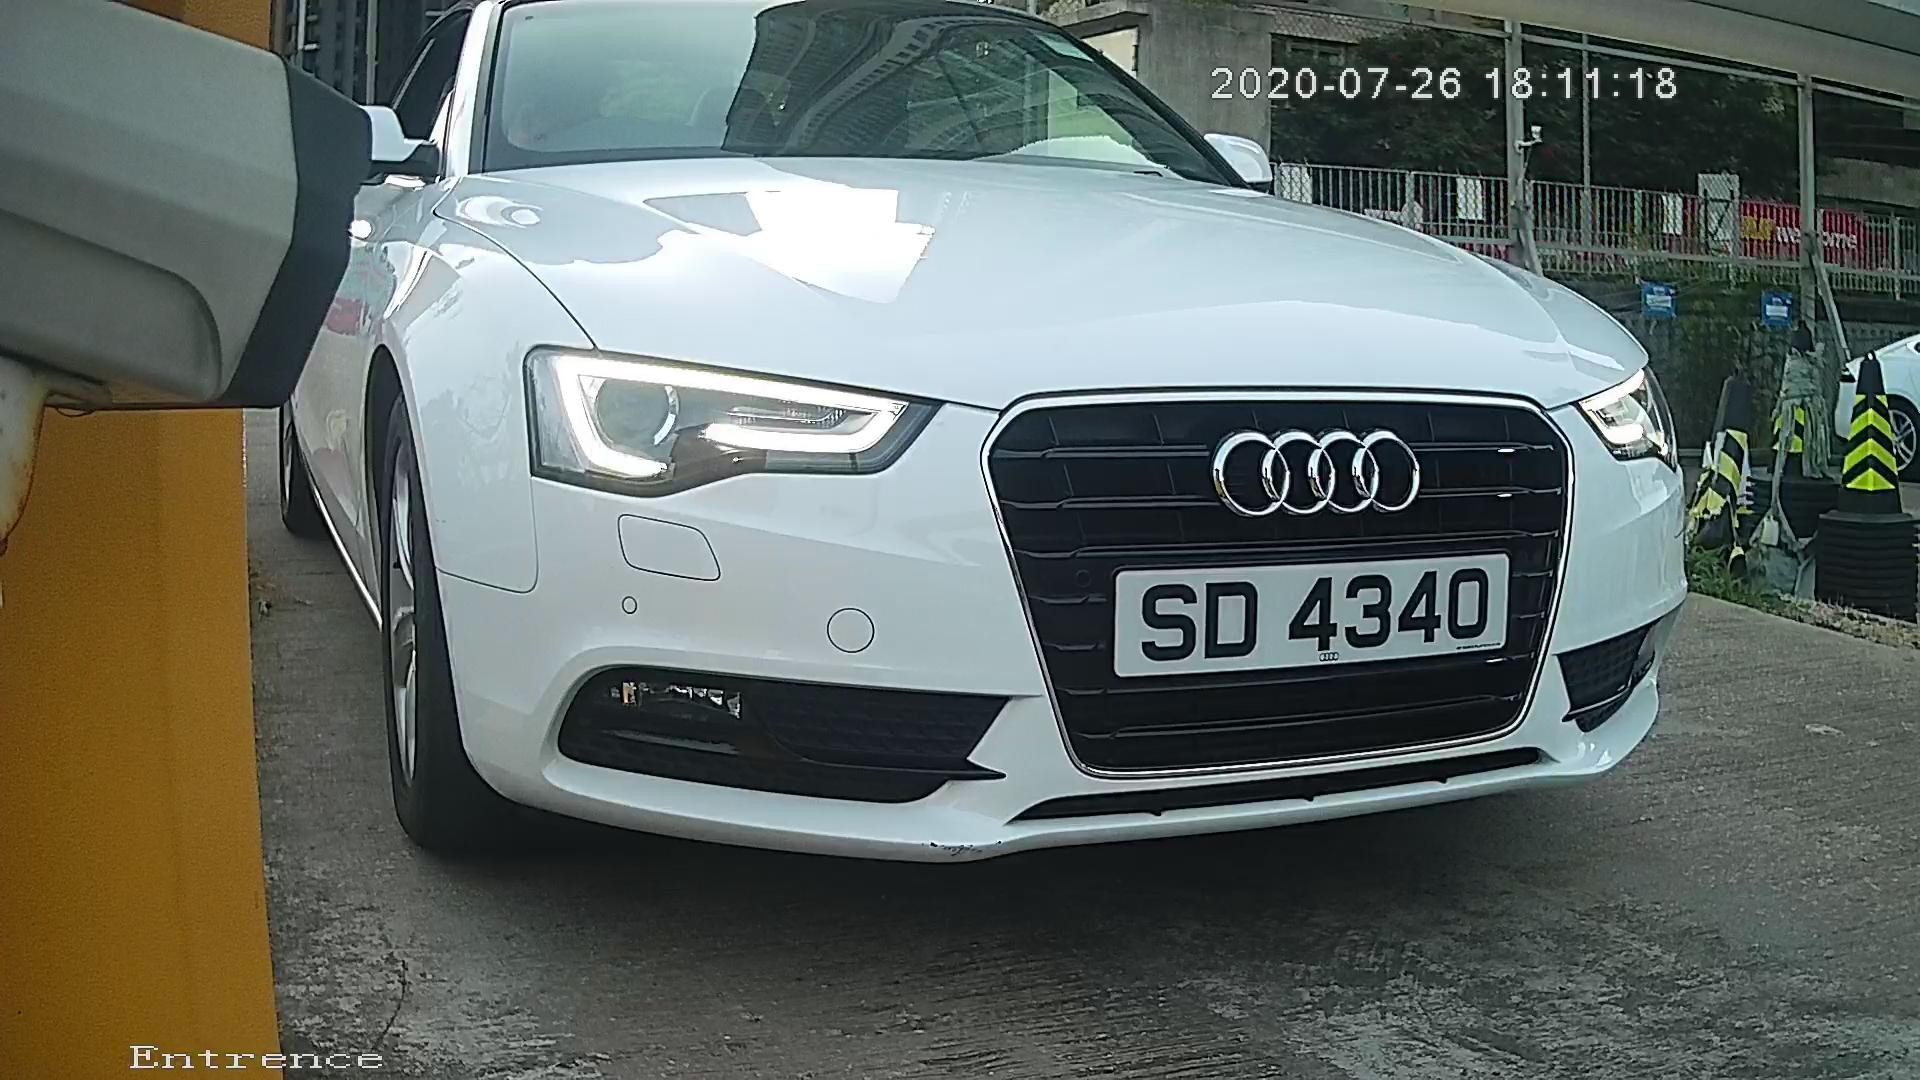Car: (198, 44, 1766, 897)
License Plate: (1098, 541, 1526, 695)
